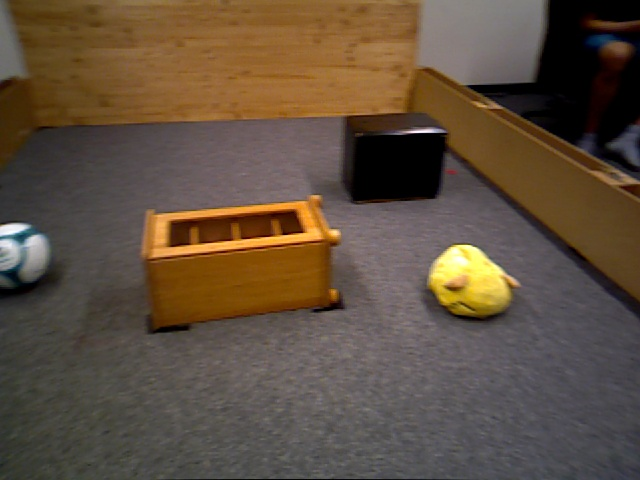grasp: (427, 243, 512, 318)
kick: (2, 222, 51, 289)
push: (344, 117, 447, 200)
